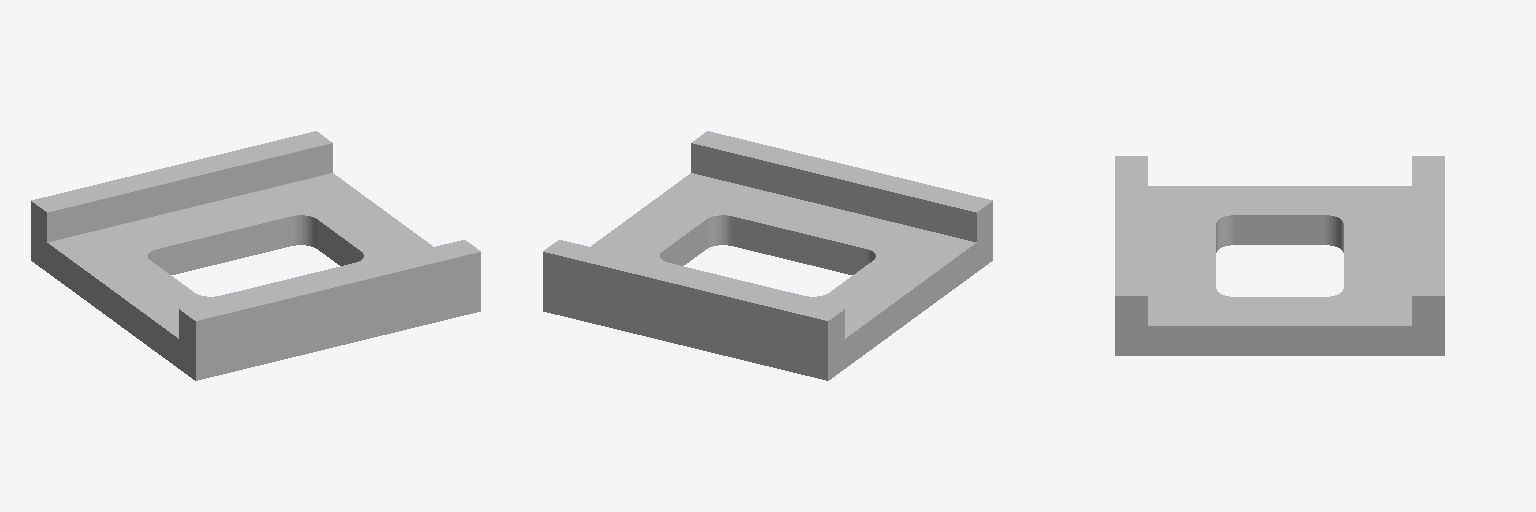
Rendered from mhole.obj.
3 views of the same model, side by side, from view 1: azimuth 30°, elevation 25°; view 2: azimuth 150°, elevation 25°; view 3: azimuth 270°, elevation 25° (orthographic).
Visible parts, largest first — view 1: mhole; view 2: mhole; view 3: mhole.
Boxes of the visible parts, x1=… form: mhole: x1=31, y1=131, x2=480, y2=380; mhole: x1=543, y1=131, x2=992, y2=380; mhole: x1=1115, y1=156, x2=1444, y2=355.
Bounding box in the file's own units: 10 × 2 × 10.